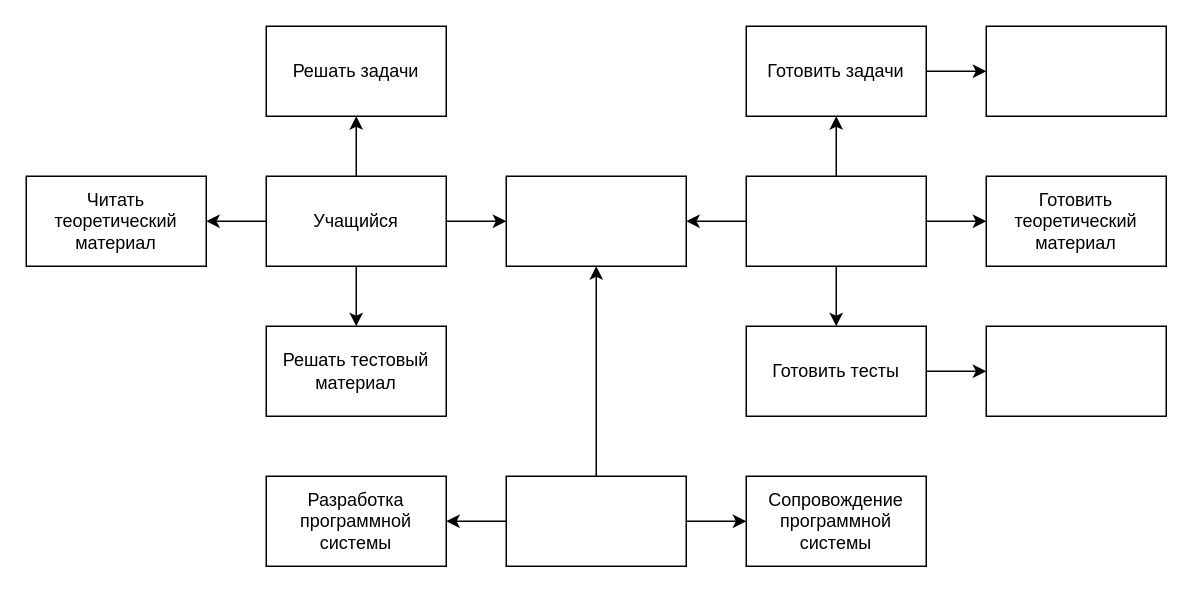
The diagram is 1193 pixels wide and 593 high, and some of its shapes have lost their labels. Here are the shapes that lost their labels. From the top down, the centre of each, then its label:
(x=1075, y=70): Проверять задачи
(x=595, y=220): Обучающая Система
(x=835, y=220): Преподаватель
(x=1075, y=370): Проверять тесты
(x=595, y=520): Разработчик
